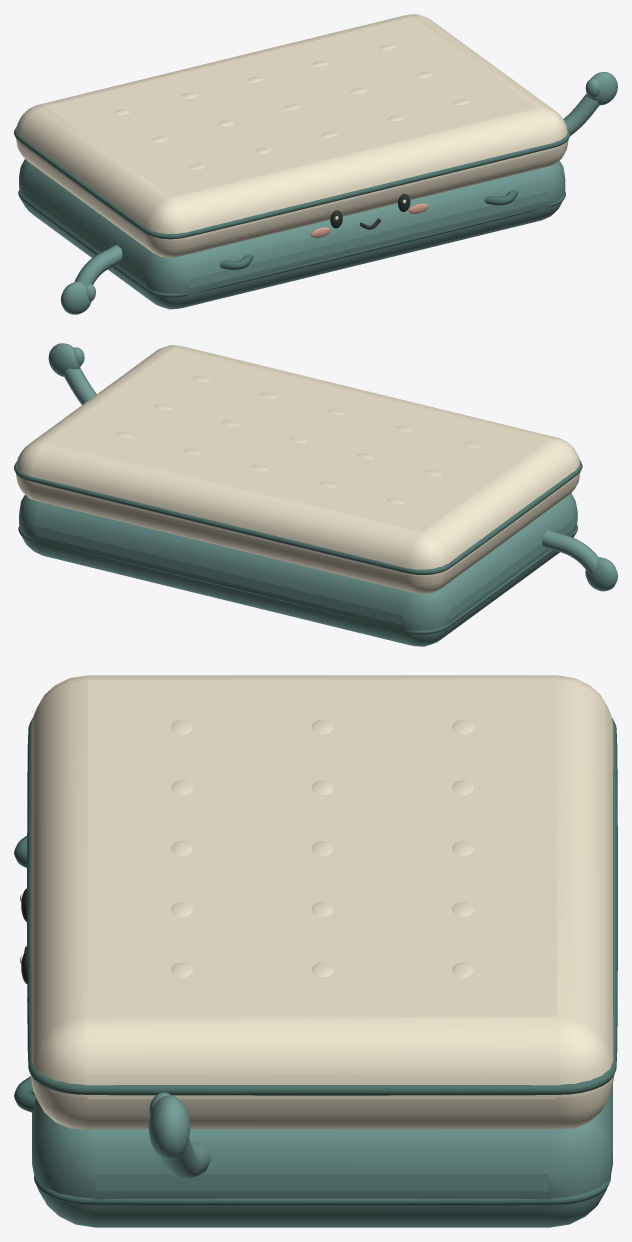
Rendered from mattress.glb.
3 renders of one model, top to bottom at view 1: azimuth 30°, elevation 25°; view 2: azimuth 150°, elevation 25°; view 3: azimuth 270°, elevation 25°, orthographic. The views are drawn at different scales.
Visible parts, largest first — view 1: Clean.Top, Clean.Band, Верхний кант, Нижний кант.001, Мягкая рука.004, Варежка.004, Мягкая рука.005, Варежка.005; view 2: Clean.Top, Clean.Band, Верхний кант, Нижний кант.001, Мягкая рука.004, Варежка.004, Варежка.005, Мягкая рука.005; view 3: Clean.Top, Clean.Band, Верхний кант, Нижний кант.001, Варежка.005, Мягкая рука.005.
Part boxes in pixels (bbox=[...]): Clean.Top: bbox=[16, 14, 568, 257]; Clean.Band: bbox=[19, 159, 565, 309]; Верхний кант: bbox=[14, 126, 570, 239]; Нижний кант.001: bbox=[18, 190, 565, 297]; Мягкая рука.004: bbox=[74, 245, 122, 286]; Варежка.004: bbox=[60, 281, 91, 314]; Мягкая рука.005: bbox=[563, 94, 599, 135]; Варежка.005: bbox=[586, 72, 617, 105]; Clean.Top: bbox=[16, 345, 580, 594]; Clean.Band: bbox=[19, 493, 577, 646]; Верхний кант: bbox=[14, 460, 582, 574]; Нижний кант.001: bbox=[18, 525, 577, 634]; Мягкая рука.004: bbox=[542, 529, 598, 573]; Варежка.004: bbox=[585, 557, 617, 591]; Варежка.005: bbox=[48, 343, 80, 376]; Мягкая рука.005: bbox=[63, 368, 96, 404]; Clean.Top: bbox=[30, 675, 614, 1129]; Clean.Band: bbox=[32, 1084, 612, 1227]; Верхний кант: bbox=[27, 718, 617, 1095]; Нижний кант.001: bbox=[34, 1175, 610, 1205]; Варежка.005: bbox=[148, 1095, 190, 1160]; Мягкая рука.005: bbox=[162, 1138, 211, 1180].
Bounding box in the file's own units: 3.86 × 0.7648 × 1.93.
